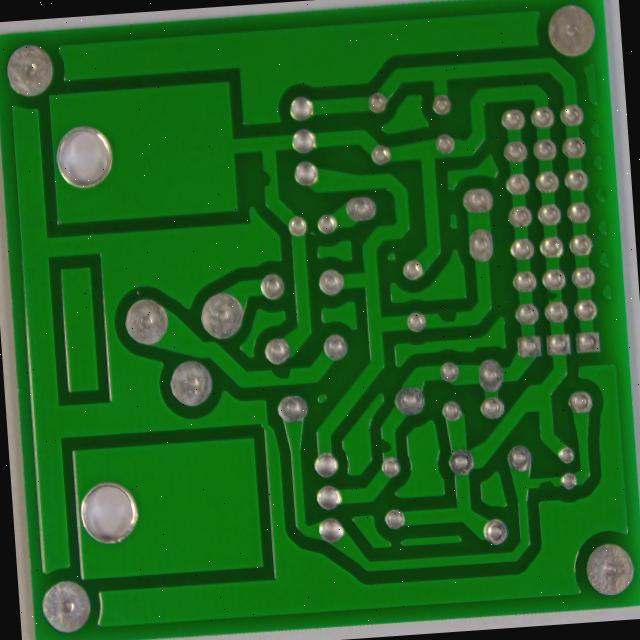mouse_bite: (288, 330, 317, 360), (407, 406, 434, 437), (468, 267, 500, 293), (277, 113, 304, 140), (580, 454, 605, 477), (589, 246, 610, 266)
